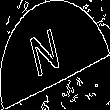N_S: (36, 24, 74, 86)
